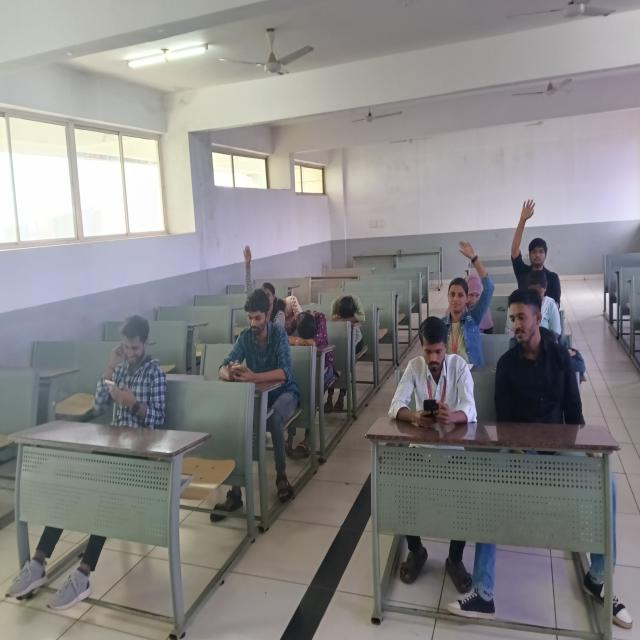Hand Rising: (428, 220, 502, 362), (503, 178, 572, 308)
Sleeping: (320, 254, 381, 360), (286, 282, 336, 368)
Using Phone: (66, 274, 196, 483), (207, 264, 307, 420), (372, 307, 469, 436)
